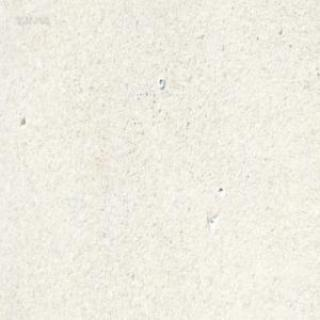Washertrack_idkeyframe: (157, 74, 164, 88)
